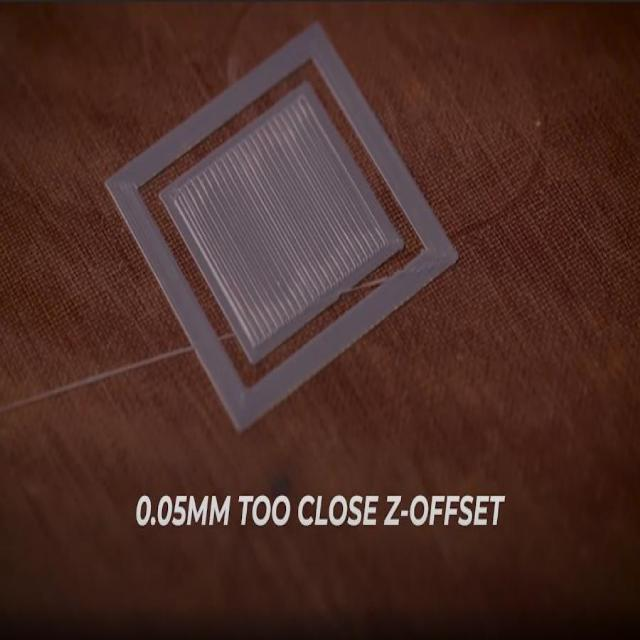Without deffect: (99, 18, 473, 432)
